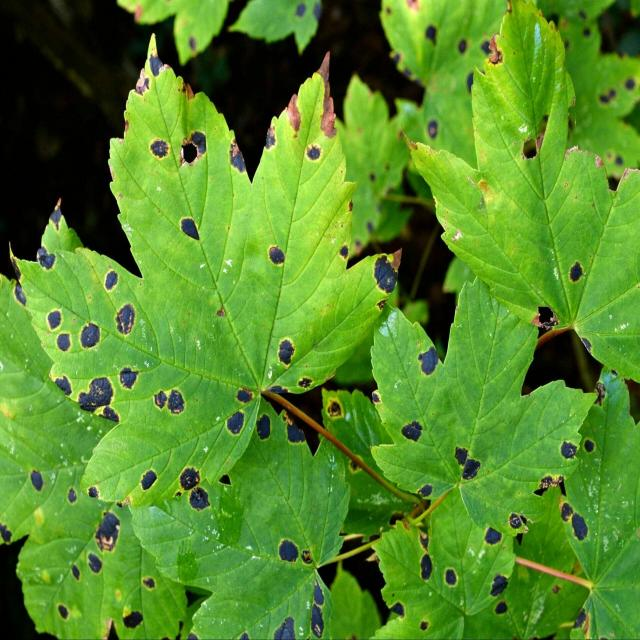Tar_Spot: (29, 2, 640, 640)
